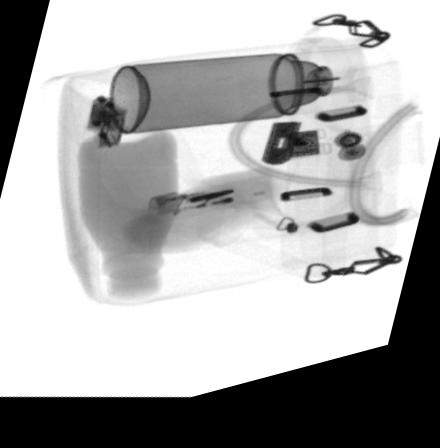Lighter: (146, 183, 271, 230)
Sprayer: (107, 67, 369, 139)
